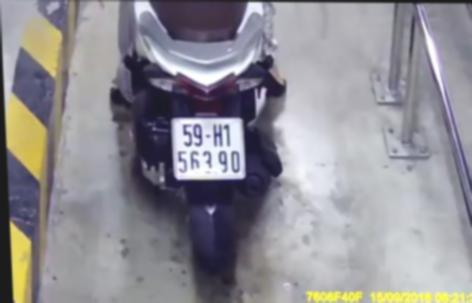License_Plate: (164, 114, 251, 189)
